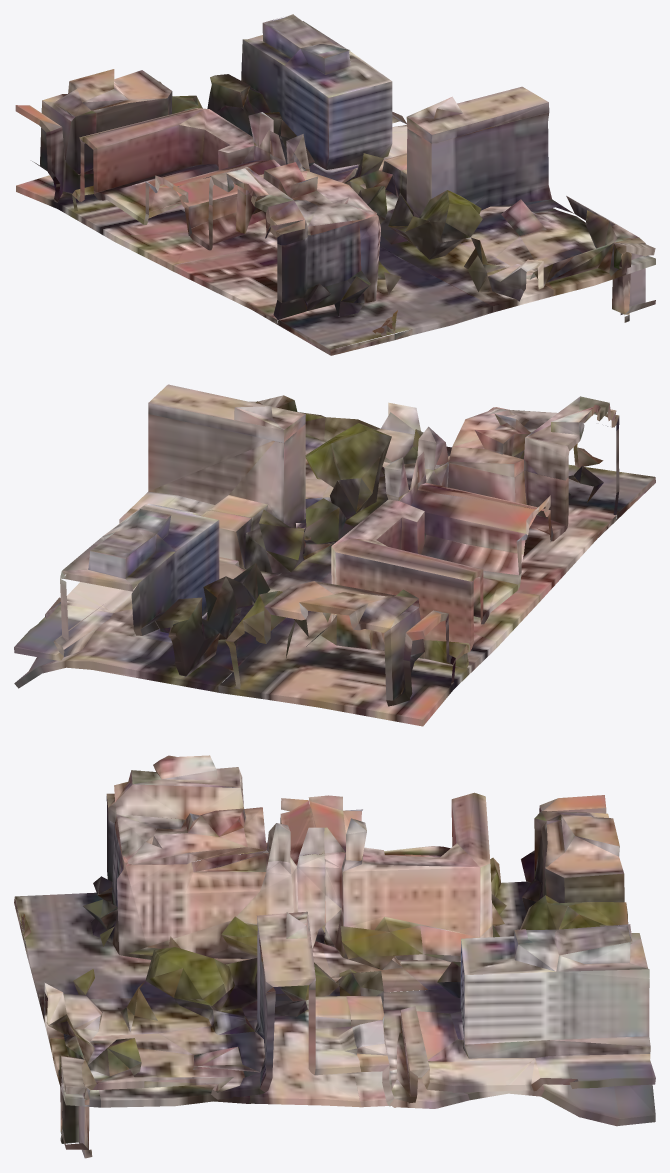
3 views of the same model, one above another, from view 1: azimuth 30°, elevation 25°; view 2: azimuth 150°, elevation 25°; view 3: azimuth 270°, elevation 25° (orthographic). The views are drawn at different scales.
Visible parts, largest first — view 1: Mesh_0; view 2: Mesh_0; view 3: Mesh_0.
Boxes of the visible parts, x1,y1,x2,y2 form: Mesh_0: (15,14,655,355); Mesh_0: (14,384,655,726); Mesh_0: (14,755,655,1158).
Size of the model in its own units: 134 by 58.43 by 165.
Materials: 1 (1 with a texture image).
